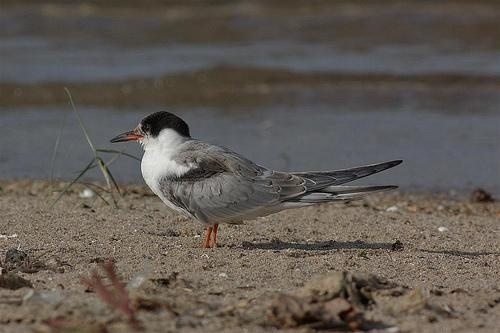bird: (103, 110, 402, 249)
